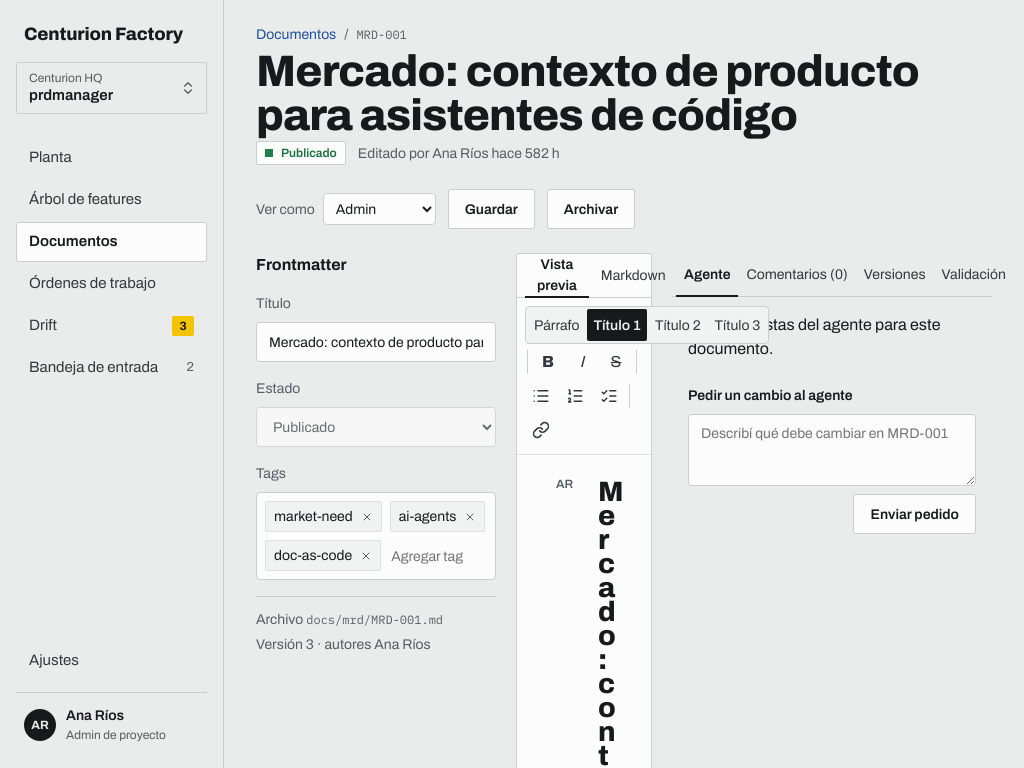
it: ValidationTab › shows "Sin problemas de validación." for a clean document
Expected: the text "Versión 3 · autores Ana Ríos" is shown, top-left (256, 637), bottom-right (431, 652)
Click the tab "Validación" at x=974, y=275, box top-left (934, 253), bottom-right (1014, 297)
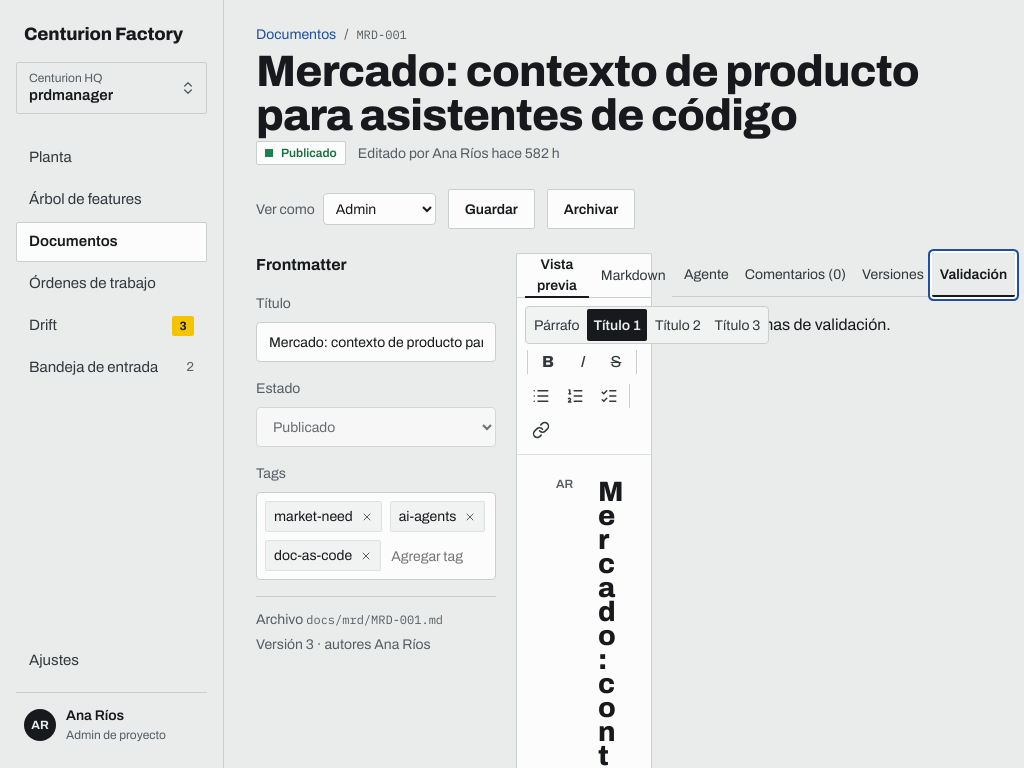
Expected: the text "Sin problemas de validación." is shown, top-left (688, 316), bottom-right (891, 333)
